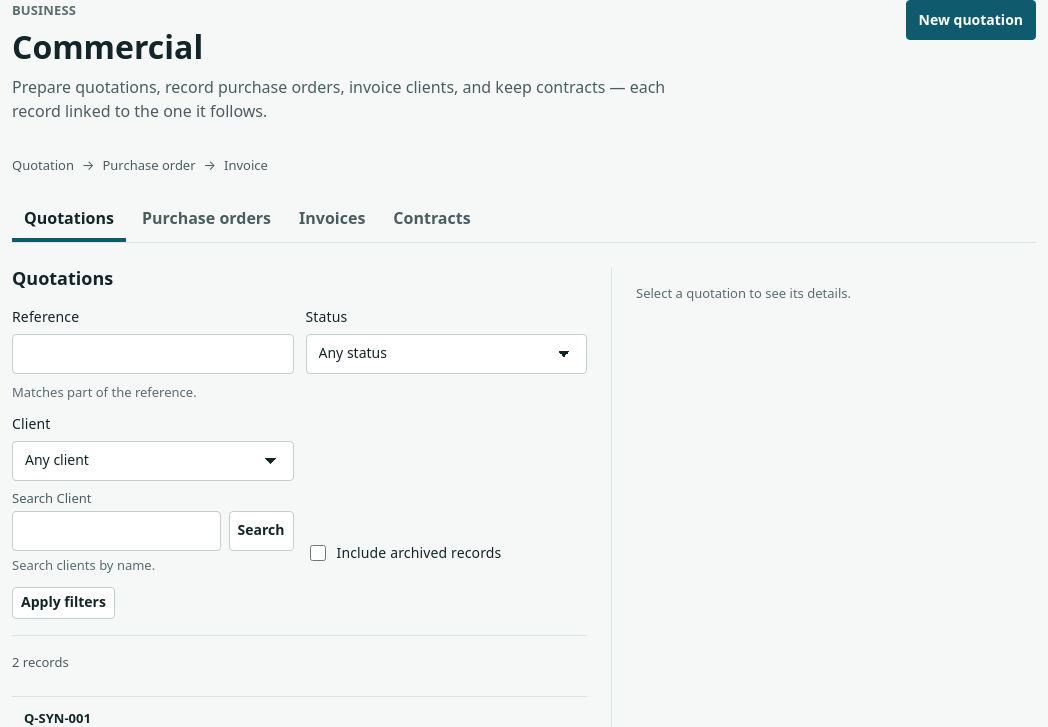
CommercialPanel: lists and states › says when a record type has no records yet
Click the button "Contracts". click: coordinates (432, 220)
box: [381,198,483,242]
(page scrolled)
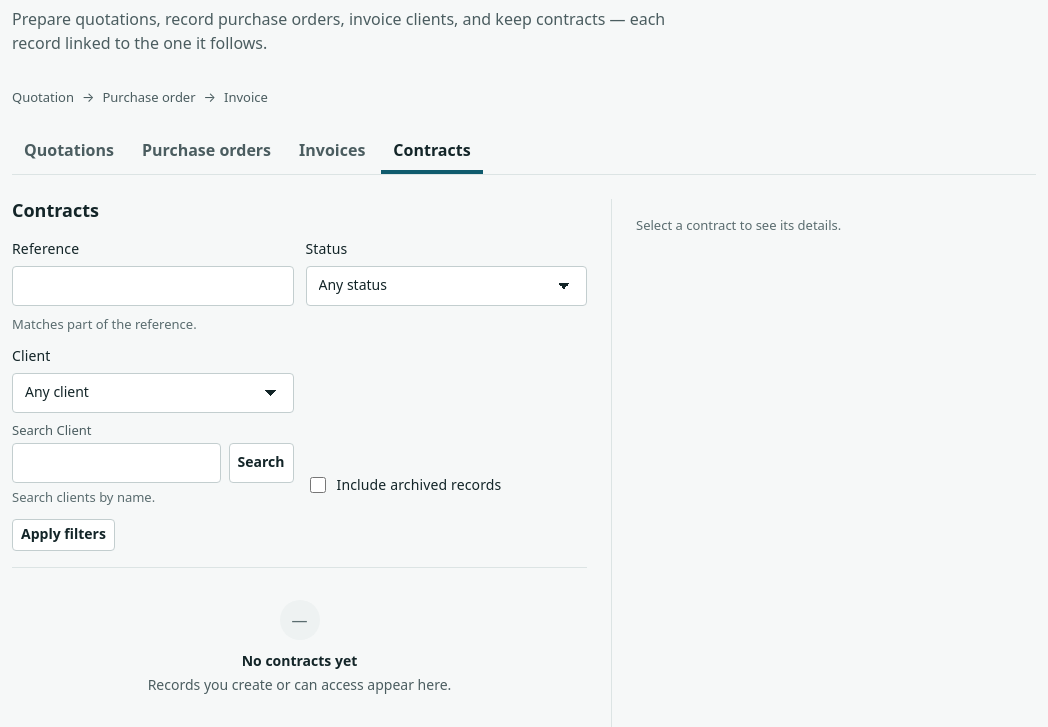
Check: the heading "No contracts yet" is shown, box [242,652,357,670]
